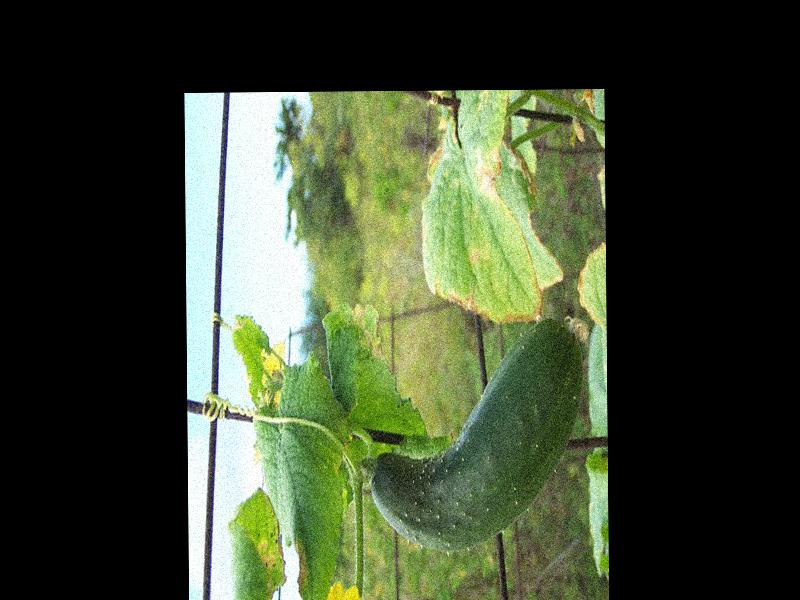Cucumber: (366, 315, 585, 550)
